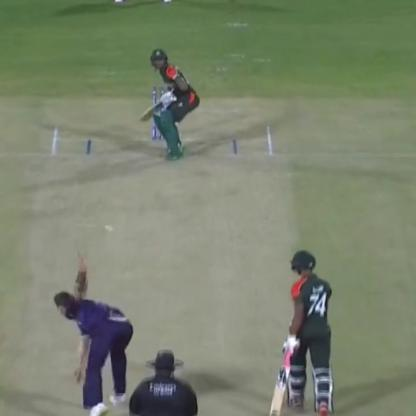ball: (101, 221, 115, 236)
bat: (267, 344, 297, 413), (141, 89, 175, 126)
pitch: (22, 108, 307, 416)
